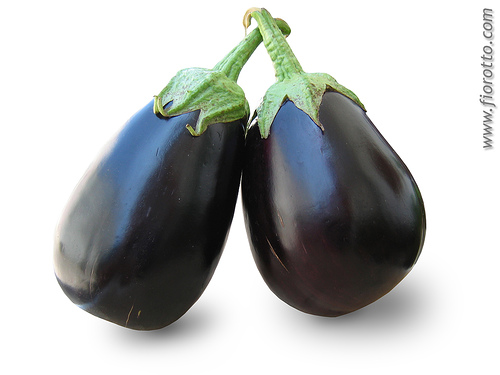eggplant: (47, 57, 254, 339), (235, 58, 431, 325)
